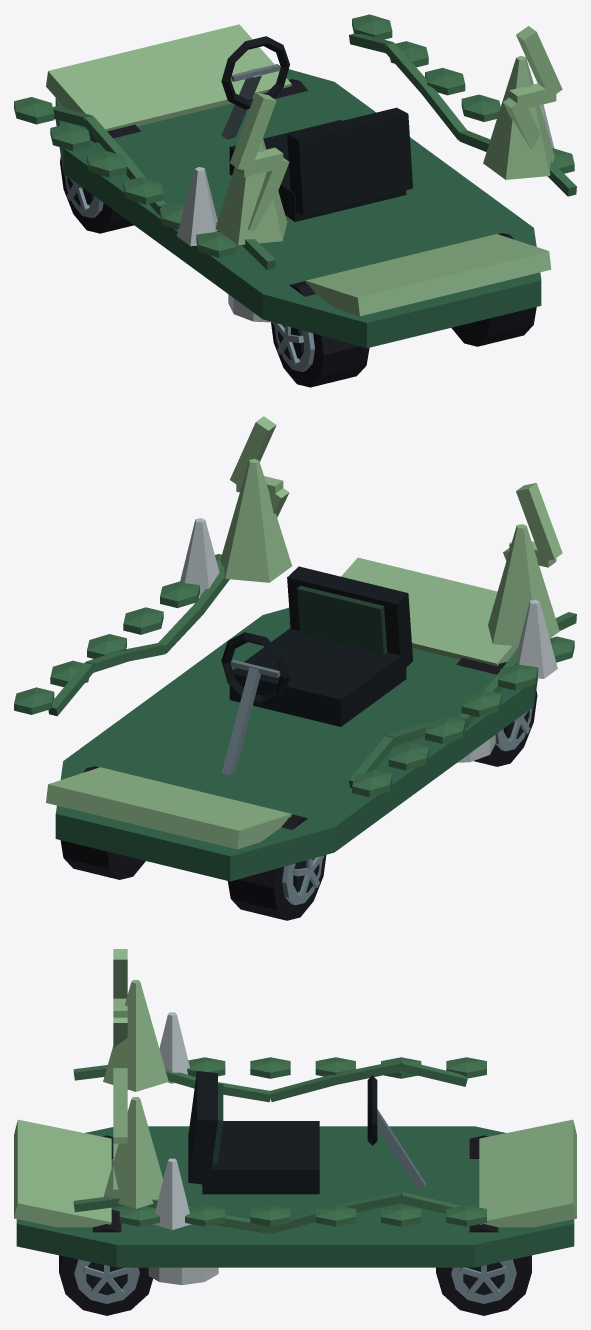
File: kart.glb
3 views of the same model, one above another, from view 1: azimuth 30°, elevation 25°; view 2: azimuth 150°, elevation 25°; view 3: azimuth 270°, elevation 25° (orthographic). The views are drawn at different scales.
Visible parts, largest first — view 1: identity-hoverboard-hoverboard-turned-up-deck, identity-hoverboard-driver-cockpit, identity-hoverboard-motif-vines, identity-hoverboard-motif-crystals, identity-hoverboard-motif-electric, wheel-rear-left, wheel-front-left, wheel-rear-right; view 2: identity-hoverboard-hoverboard-turned-up-deck, identity-hoverboard-driver-cockpit, identity-hoverboard-motif-vines, identity-hoverboard-motif-crystals, wheel-front-left, identity-hoverboard-motif-electric, wheel-rear-left, wheel-front-right; view 3: identity-hoverboard-hoverboard-turned-up-deck, identity-hoverboard-motif-vines, identity-hoverboard-driver-cockpit, identity-hoverboard-motif-crystals, wheel-rear-right, wheel-front-right, identity-hoverboard-motif-electric.
Boxes of the visible parts, x1,y1,x2,y2 form: identity-hoverboard-hoverboard-turned-up-deck: [46, 24, 551, 348]; identity-hoverboard-driver-cockpit: [221, 36, 412, 221]; identity-hoverboard-motif-vines: [14, 14, 576, 269]; identity-hoverboard-motif-crystals: [176, 56, 554, 246]; identity-hoverboard-motif-electric: [230, 26, 562, 231]; wheel-rear-left: [271, 281, 369, 387]; wheel-front-left: [60, 124, 140, 233]; wheel-rear-right: [451, 233, 536, 346]; identity-hoverboard-hoverboard-turned-up-deck: [46, 557, 537, 881]; identity-hoverboard-driver-cockpit: [221, 566, 412, 774]; identity-hoverboard-motif-vines: [14, 554, 576, 797]; identity-hoverboard-motif-crystals: [180, 459, 559, 678]; wheel-front-left: [227, 814, 326, 920]; identity-hoverboard-motif-electric: [230, 416, 562, 567]; wheel-rear-left: [456, 658, 537, 766]; wheel-front-right: [60, 766, 145, 879]; identity-hoverboard-hoverboard-turned-up-deck: [14, 1119, 576, 1284]; identity-hoverboard-motif-vines: [73, 1057, 486, 1233]; identity-hoverboard-driver-cockpit: [188, 1071, 425, 1194]; identity-hoverboard-motif-crystals: [103, 980, 191, 1229]; wheel-rear-right: [59, 1209, 153, 1315]; wheel-front-right: [436, 1224, 531, 1315]; identity-hoverboard-motif-electric: [113, 949, 127, 1189].
Size of the model in its own units: 2.02 by 1.49 by 2.93.
